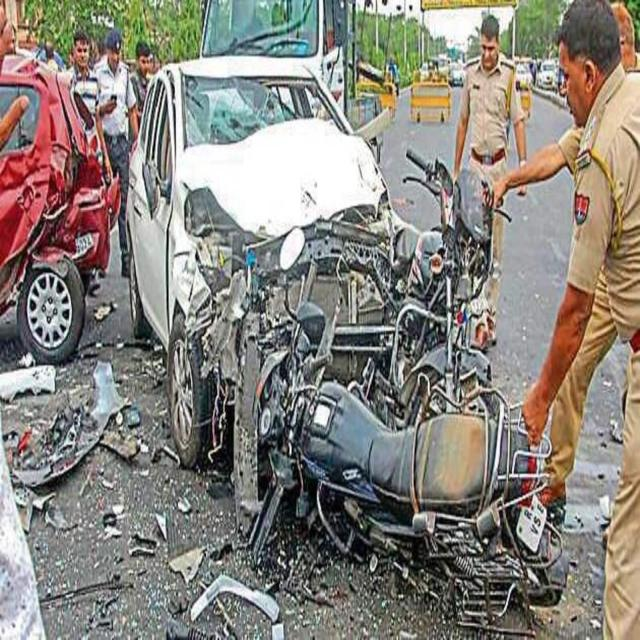accident: (250, 227, 568, 634), (126, 59, 400, 531), (0, 56, 120, 363), (390, 147, 491, 423)
